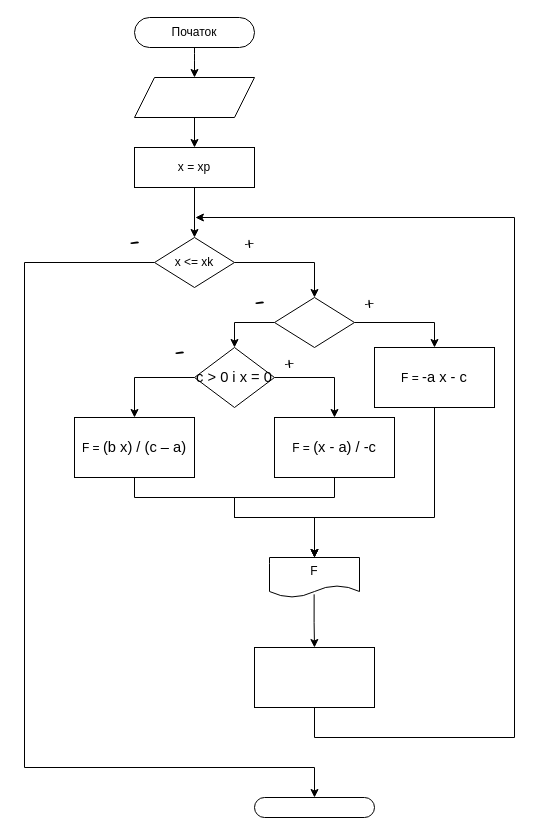
The diagram is 540 pixels wide and 835 high, and some of its shapes have lost their labels. Each missing label, with the centre of its shape:
"a, b, c, xp, xk, dx" belongs at point (194, 97).
"c < 0 i x ≠ 0" belongs at point (314, 322).
"x += dx" belongs at point (314, 677).
"Кінець" belongs at point (314, 807).
